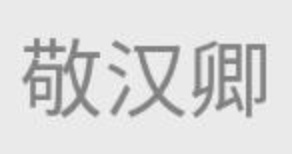TextView: (1, 1, 291, 153)
